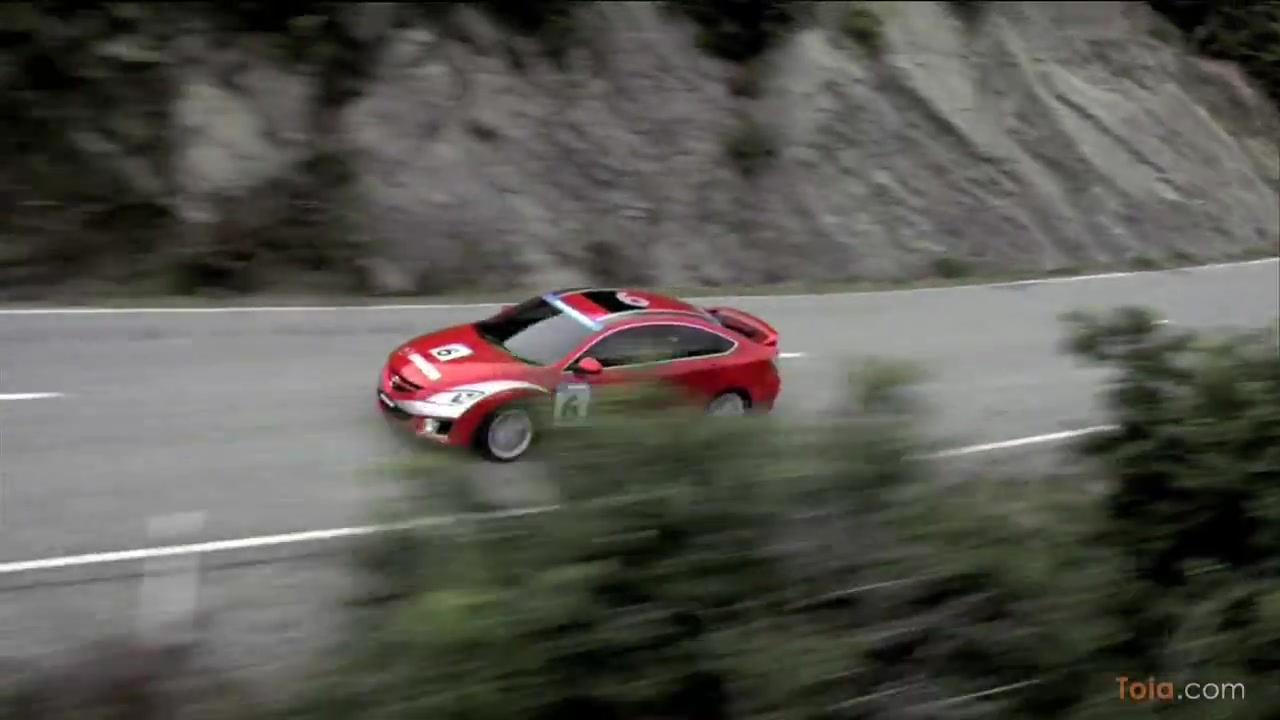car: (375, 283, 787, 466)
